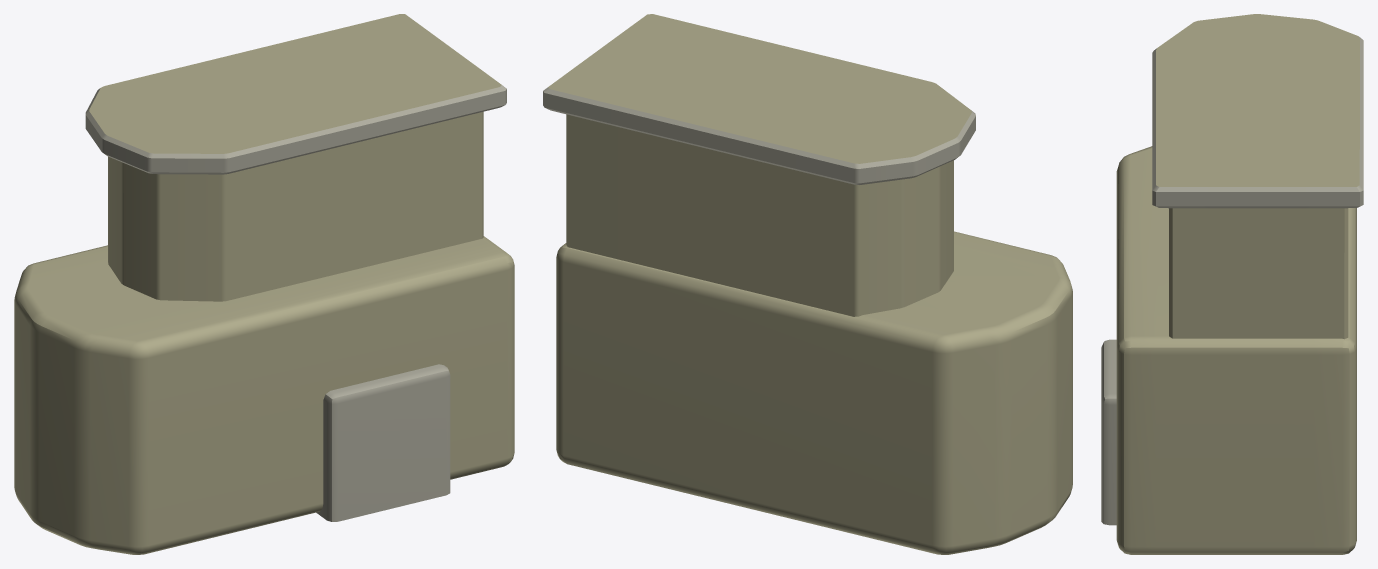
3 views of the same model, side by side, from view 1: azimuth 30°, elevation 25°; view 2: azimuth 150°, elevation 25°; view 3: azimuth 270°, elevation 25° (orthographic). The views are drawn at different scales.
Visible parts, largest first — view 1: pCube142; view 2: pCube142; view 3: pCube142.
Boxes of the visible parts, x1,y1,x2,y2 form: pCube142: [14, 14, 514, 554]; pCube142: [543, 14, 1072, 554]; pCube142: [1101, 14, 1363, 554].
Size of the model in its own units: 121 by 98.09 by 61.93.
